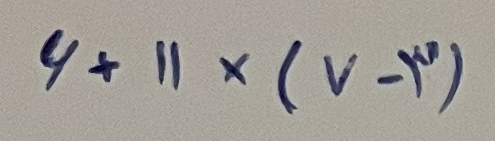character: (38, 26, 81, 92), (397, 39, 439, 99), (276, 38, 303, 115), (437, 41, 465, 115), (322, 51, 360, 98), (218, 52, 251, 87), (88, 50, 117, 83), (169, 40, 180, 92), (155, 38, 166, 87), (375, 74, 405, 90)
